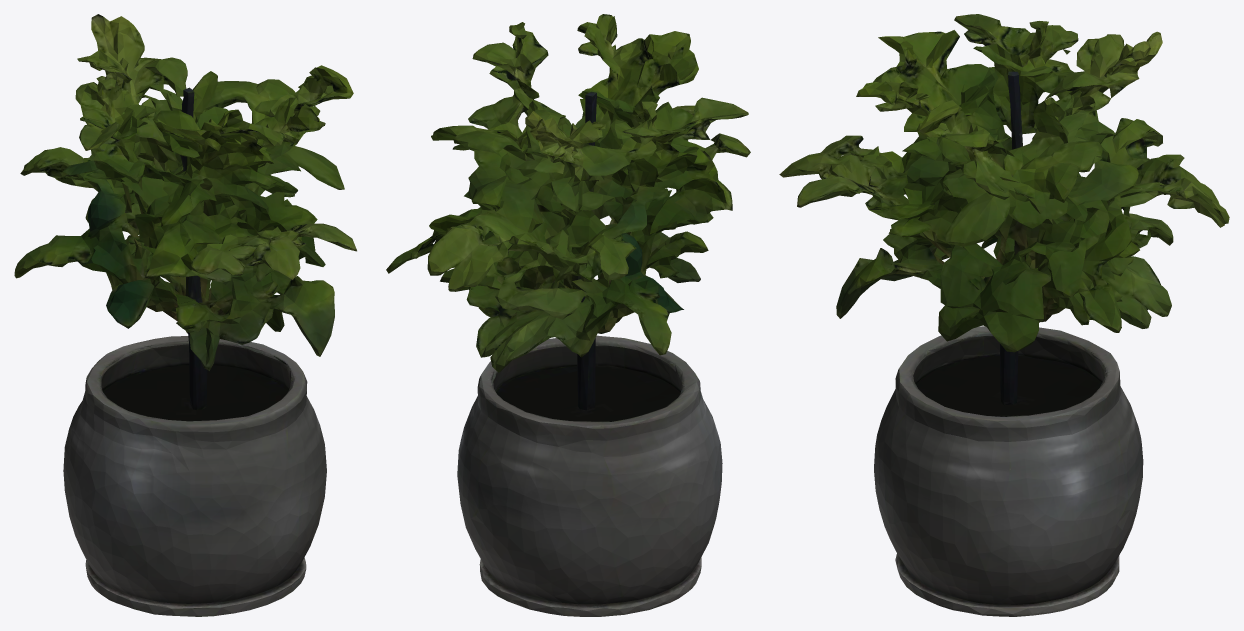
3 renders of one model, left to right at view 1: azimuth 30°, elevation 25°; view 2: azimuth 150°, elevation 25°; view 3: azimuth 270°, elevation 25°, orthographic. The views are drawn at different scales.
Parts seen in each view (by area): view 1: geometry_0; view 2: geometry_0; view 3: geometry_0.
Boxes of the visible parts, x1,y1,x2,y2 form: geometry_0: (14, 14, 356, 616); geometry_0: (386, 14, 750, 616); geometry_0: (779, 14, 1229, 616).
Size of the model in its own units: 0.4311 by 0.7422 by 0.5758.
1 material, 1 textured.
